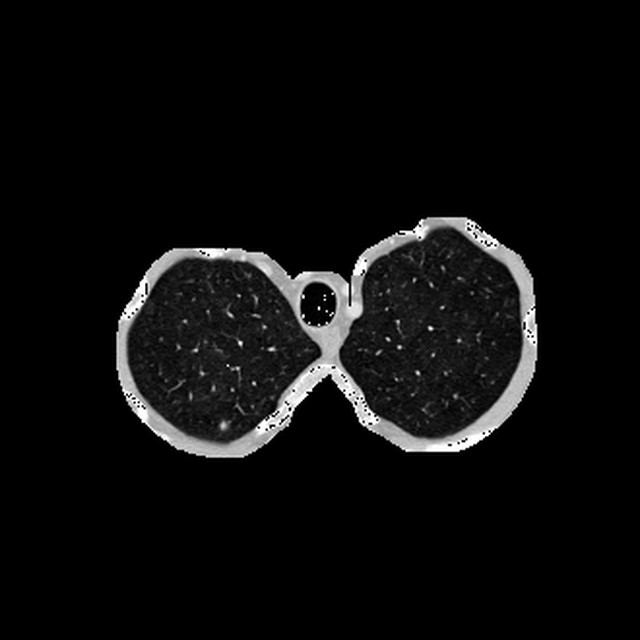PN: (219, 421, 227, 429)
